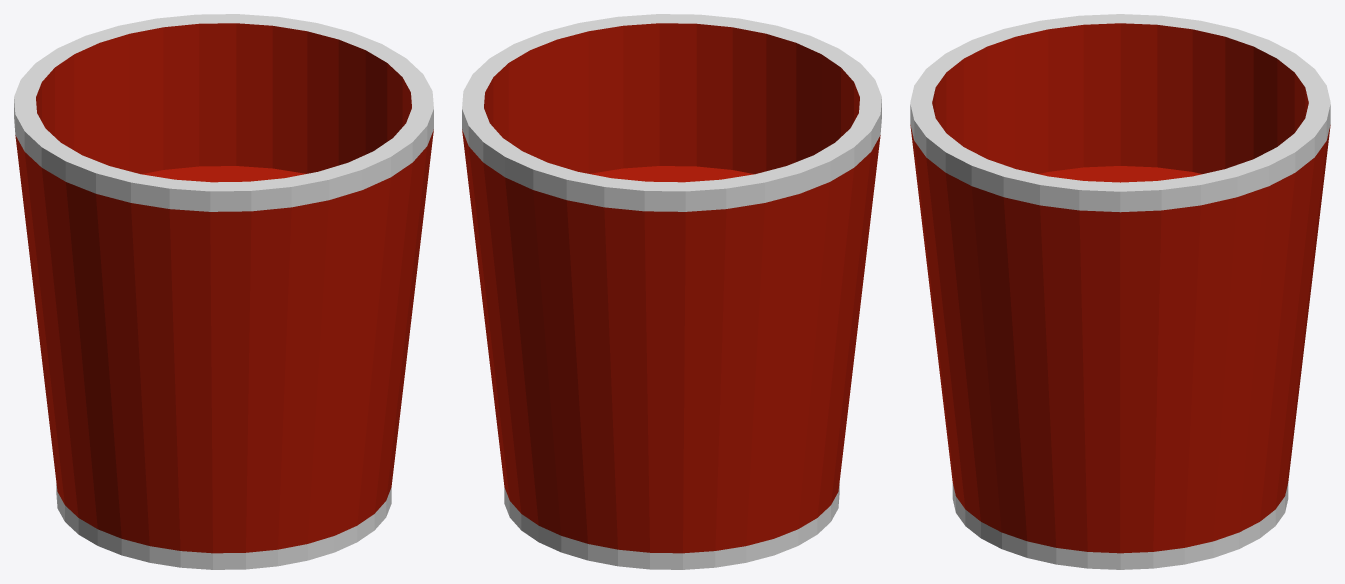
Rendered from Cup.fbx.
The picture shows the model from 3 angles, left to right: view 1: azimuth 30°, elevation 25°; view 2: azimuth 150°, elevation 25°; view 3: azimuth 270°, elevation 25°; orthographic projection.
Parts seen in each view (by area): view 1: Cup; view 2: Cup; view 3: Cup.
Part boxes in pixels (x1,y1,x2,y2): Cup: (14, 14, 433, 569); Cup: (462, 14, 881, 569); Cup: (910, 14, 1330, 569).
Bounding box in the file's own units: 214 × 222 × 214.
